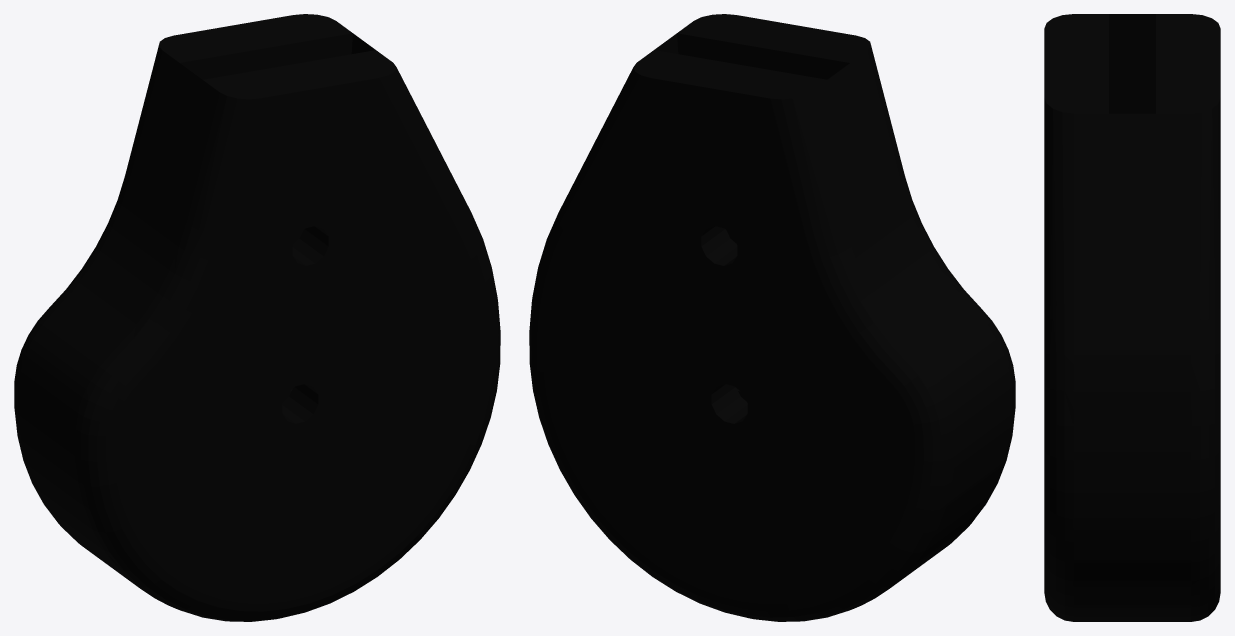
The model's file is lffoot.dae.
The picture shows the model from 3 angles, left to right: view 1: azimuth 30°, elevation 25°; view 2: azimuth 150°, elevation 25°; view 3: azimuth 270°, elevation 25°; orthographic projection. The views are drawn at different scales.
Visible parts, largest first — view 1: lffoot; view 2: lffoot; view 3: lffoot.
Boxes of the visible parts, x1,y1,x2,y2 form: lffoot: [14, 14, 500, 621]; lffoot: [529, 14, 1015, 621]; lffoot: [1044, 14, 1220, 621].
Size of the model in its own units: 0.017 by 0.006 by 0.0207.
1 material, 1 textured.
